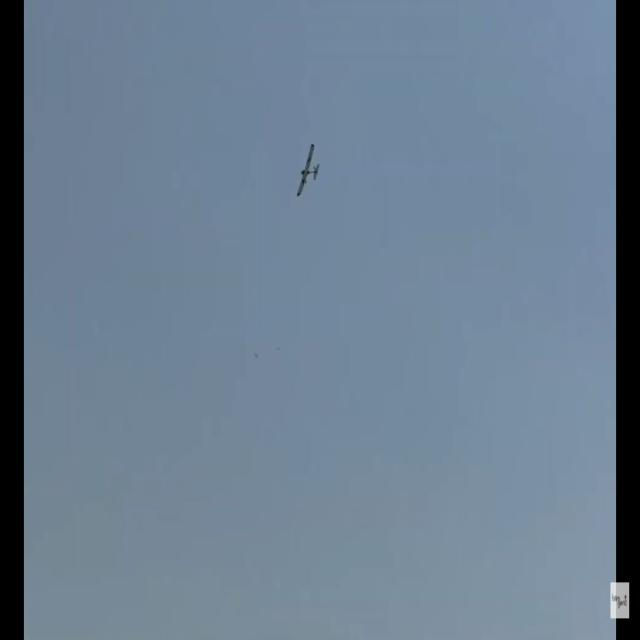iha: (295, 142, 320, 199)
